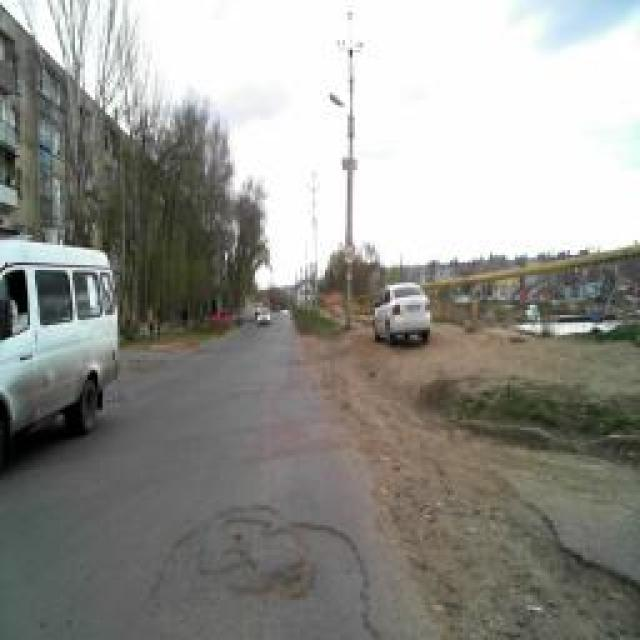sign: (344, 243, 356, 265)
